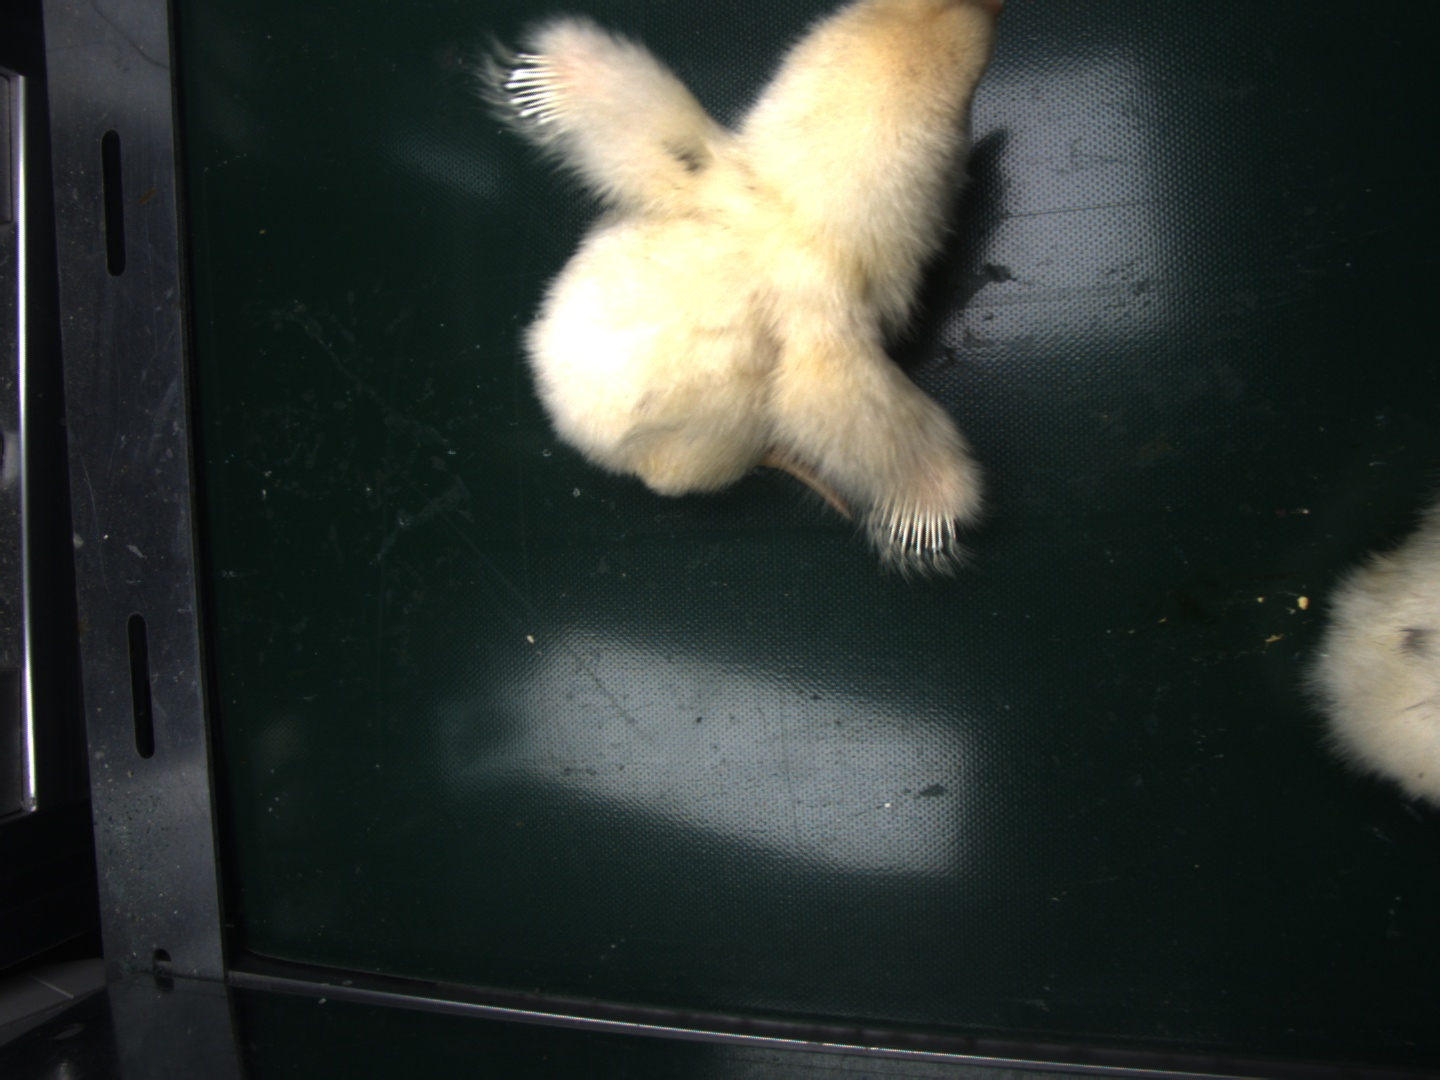male: (872, 491, 963, 555)
